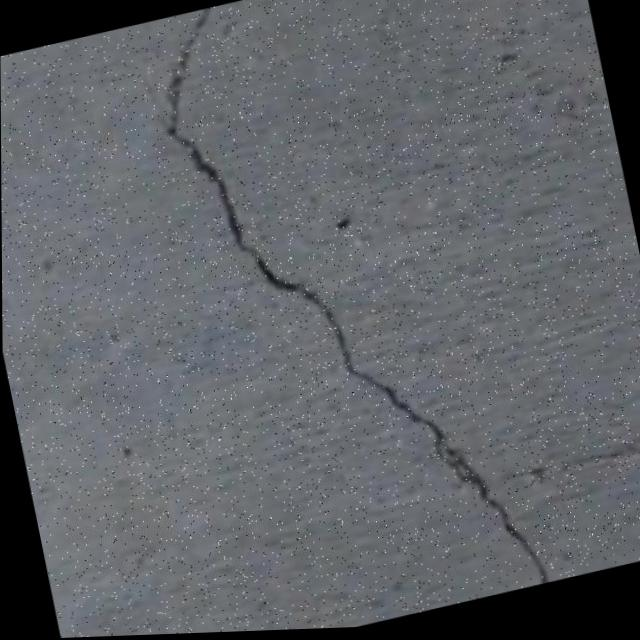Crack: (128, 0, 561, 636)
